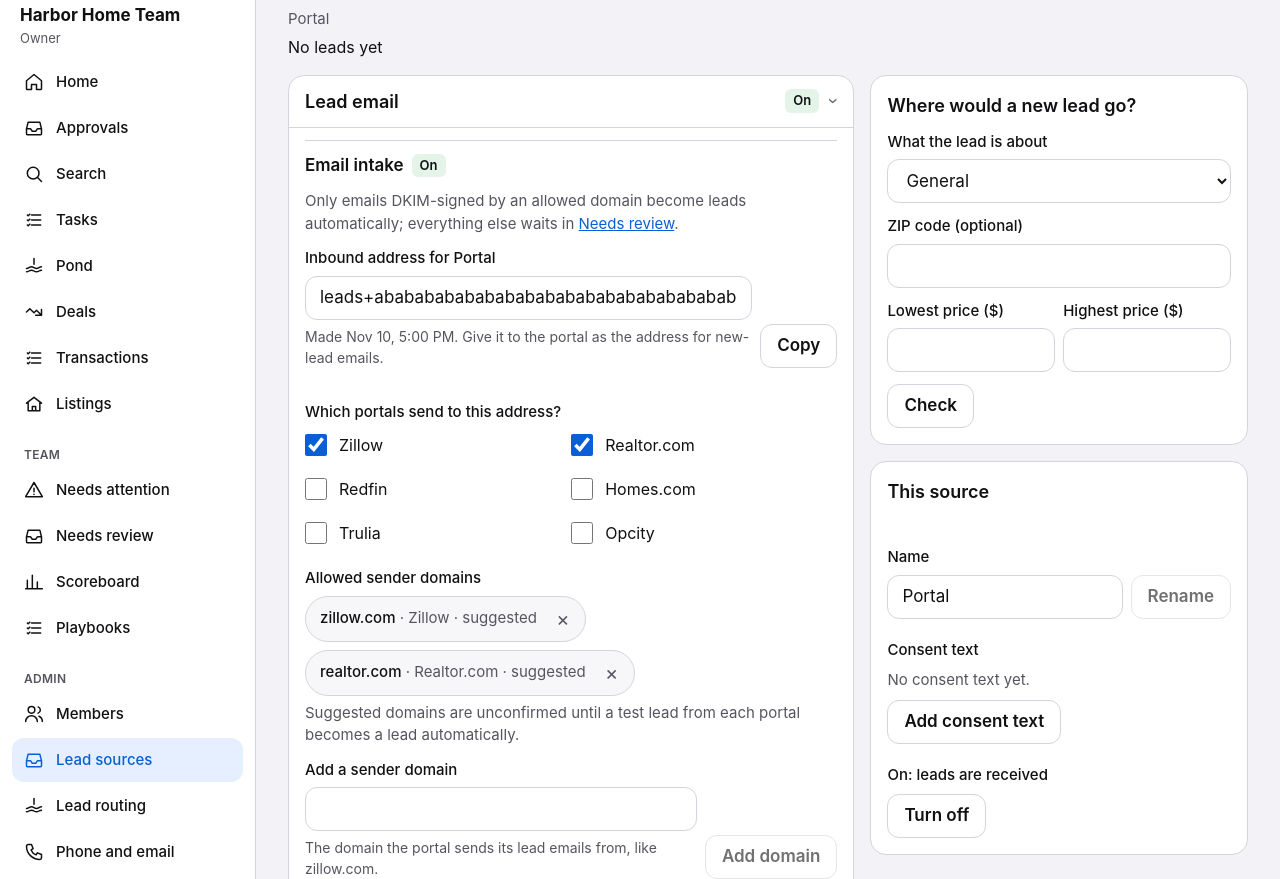
Test: Email intake on a lead source page › sender domains: Save is off until something changes, sends the whole list, and a refused domain is a sentence, never the code
(page scrolled)
Type "co.uk" into the field labelled "Add a sender domain". click: coordinates (501, 809)
box: [305, 787, 697, 831]
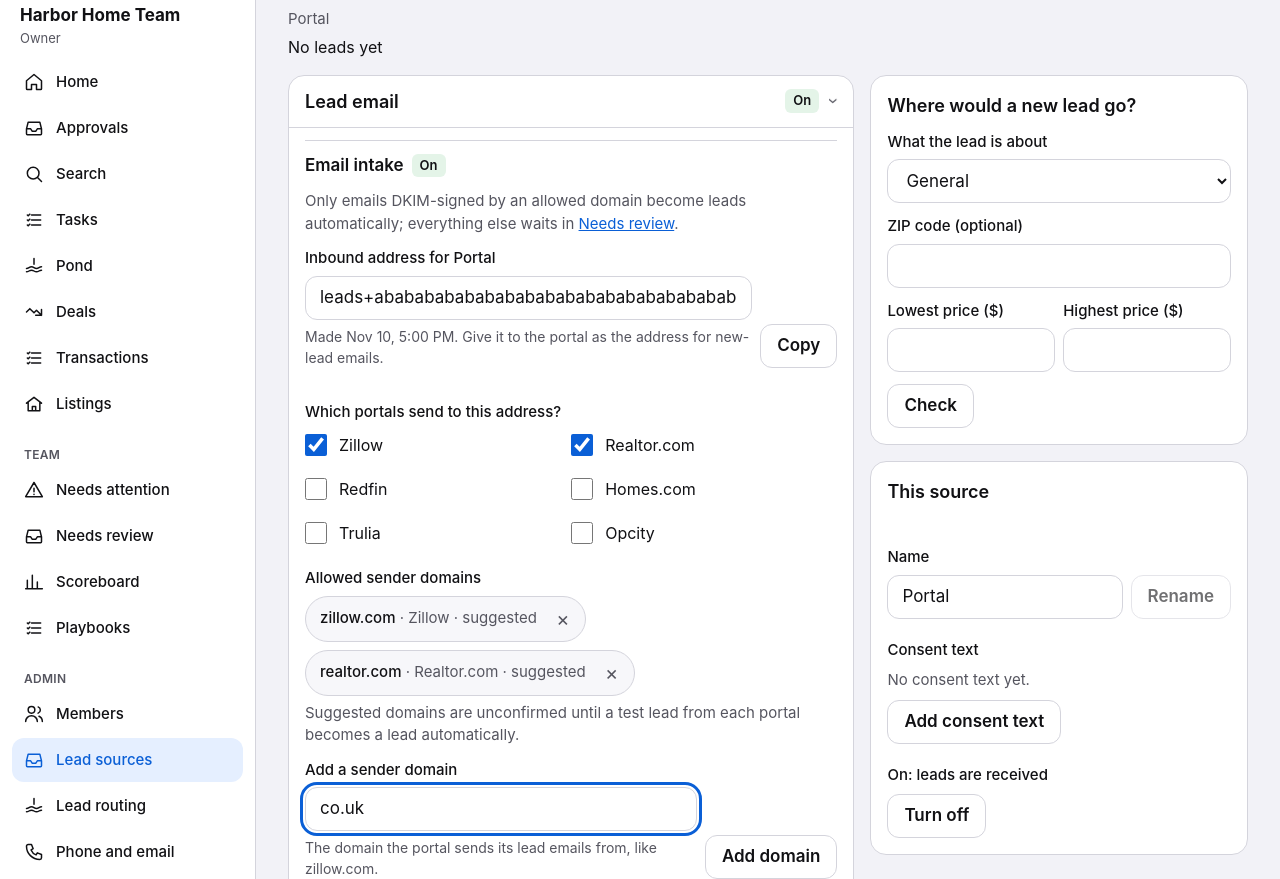
Click the button "Add domain". click: coordinates (771, 857)
box: [705, 835, 837, 878]
(page scrolled)
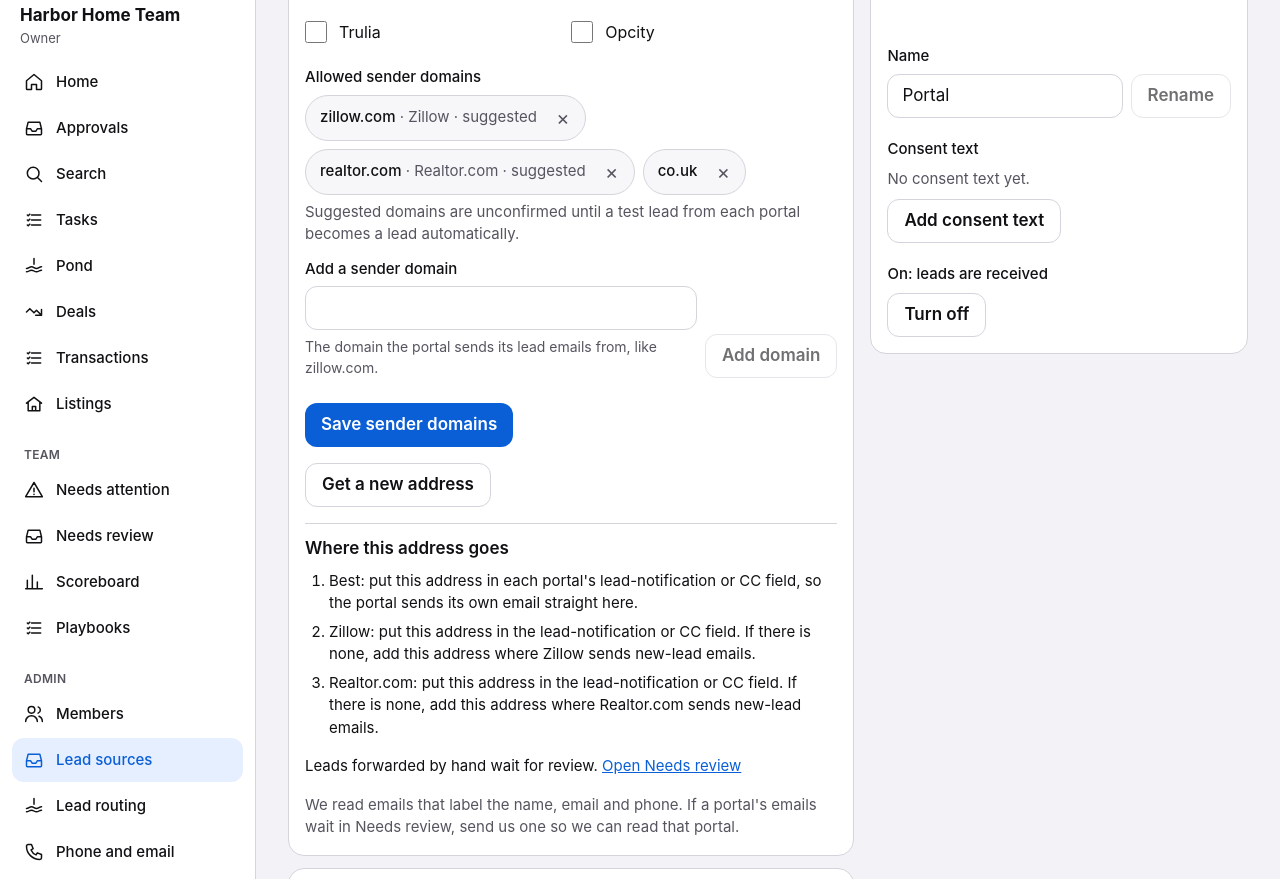
Click the button "Save sender domains". click: coordinates (409, 425)
box: [305, 403, 513, 447]
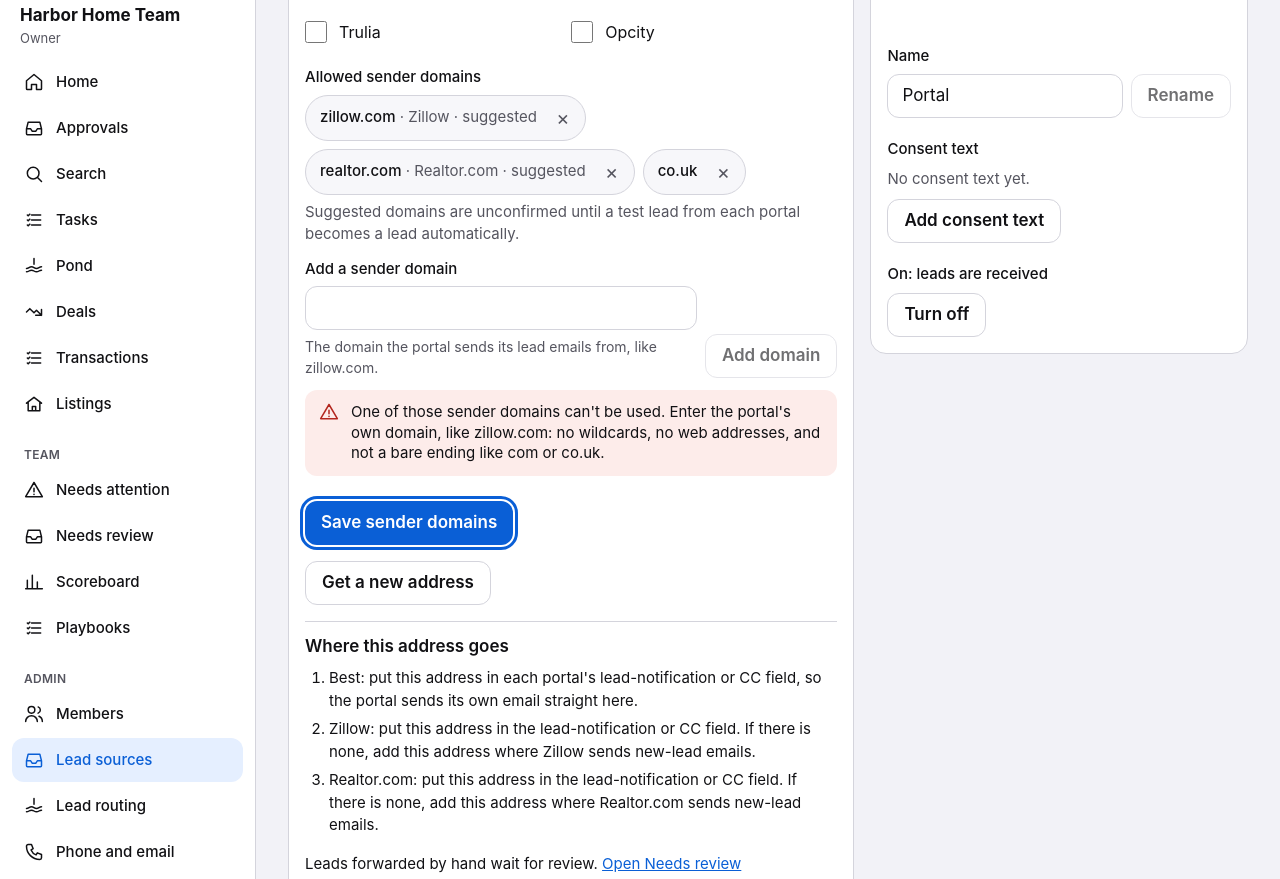
Now the text "One of those sender domains can't be used. Enter the portal's own domain, like zillow.com: no wildcards, no web addresse" is shown, box [351, 402, 820, 462]
Click the button named "Remove co.uk". click: coordinates (723, 172)
box: [701, 150, 745, 194]
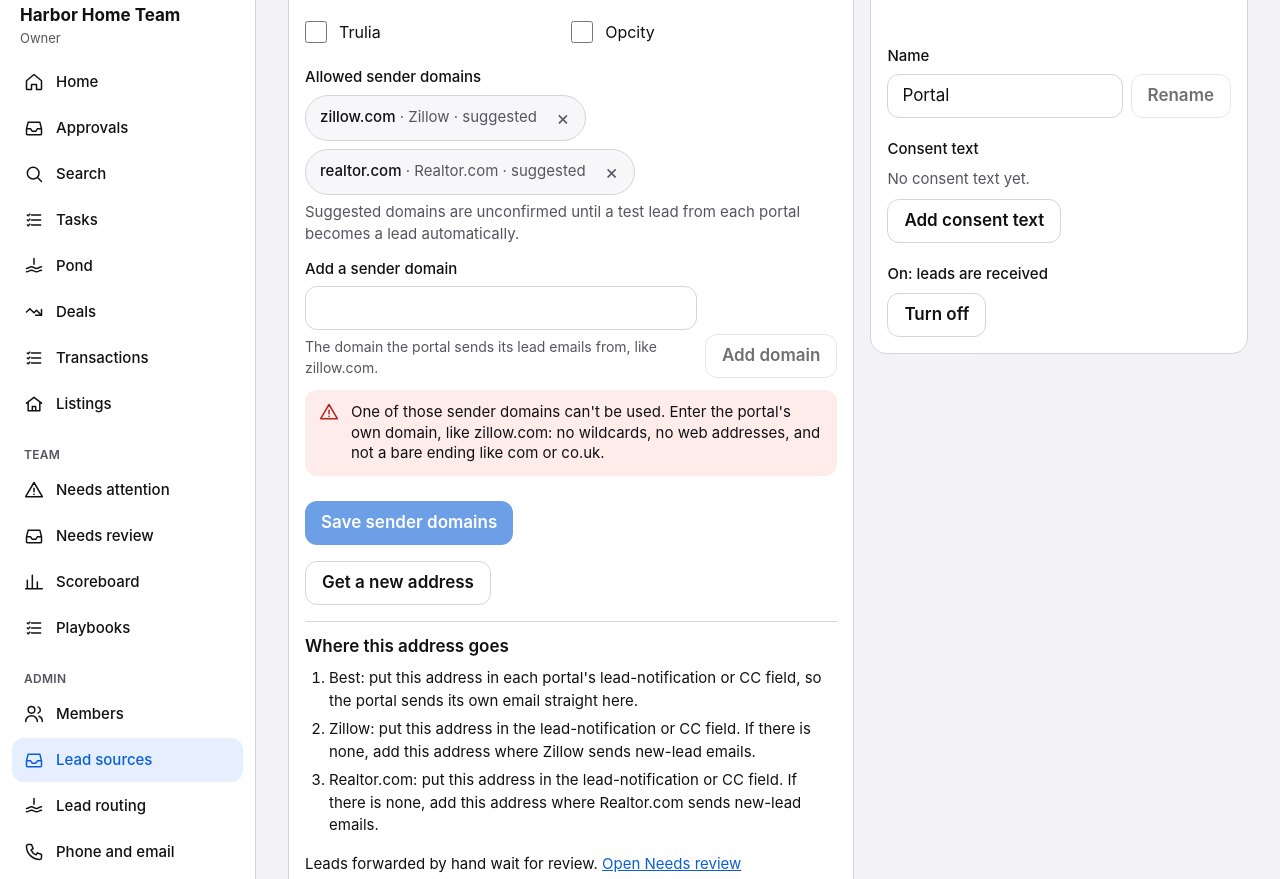
Click the button named "Remove realtor.com". click: coordinates (612, 172)
box: [590, 150, 634, 194]
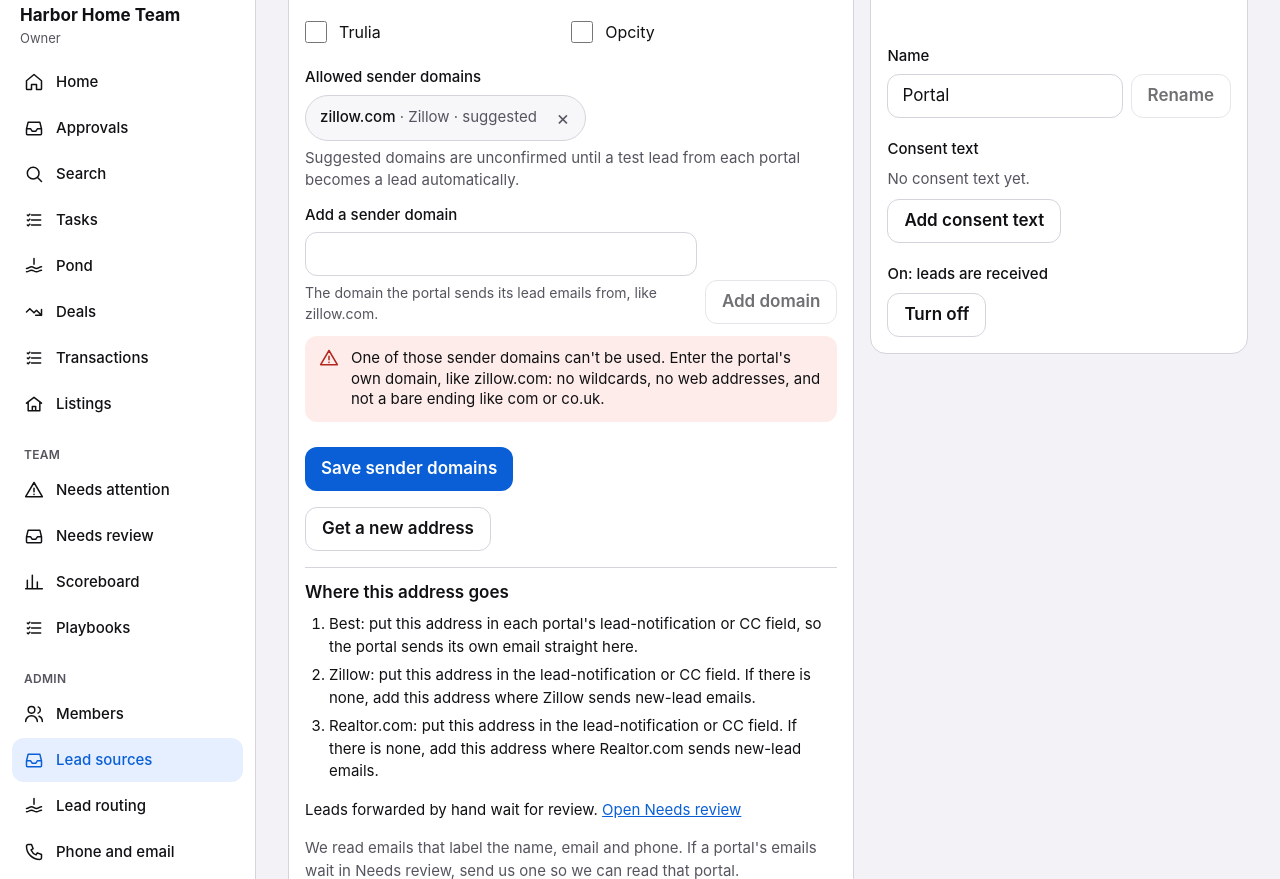
Click the button "Save sender domains". click: coordinates (409, 469)
box: [305, 447, 513, 491]
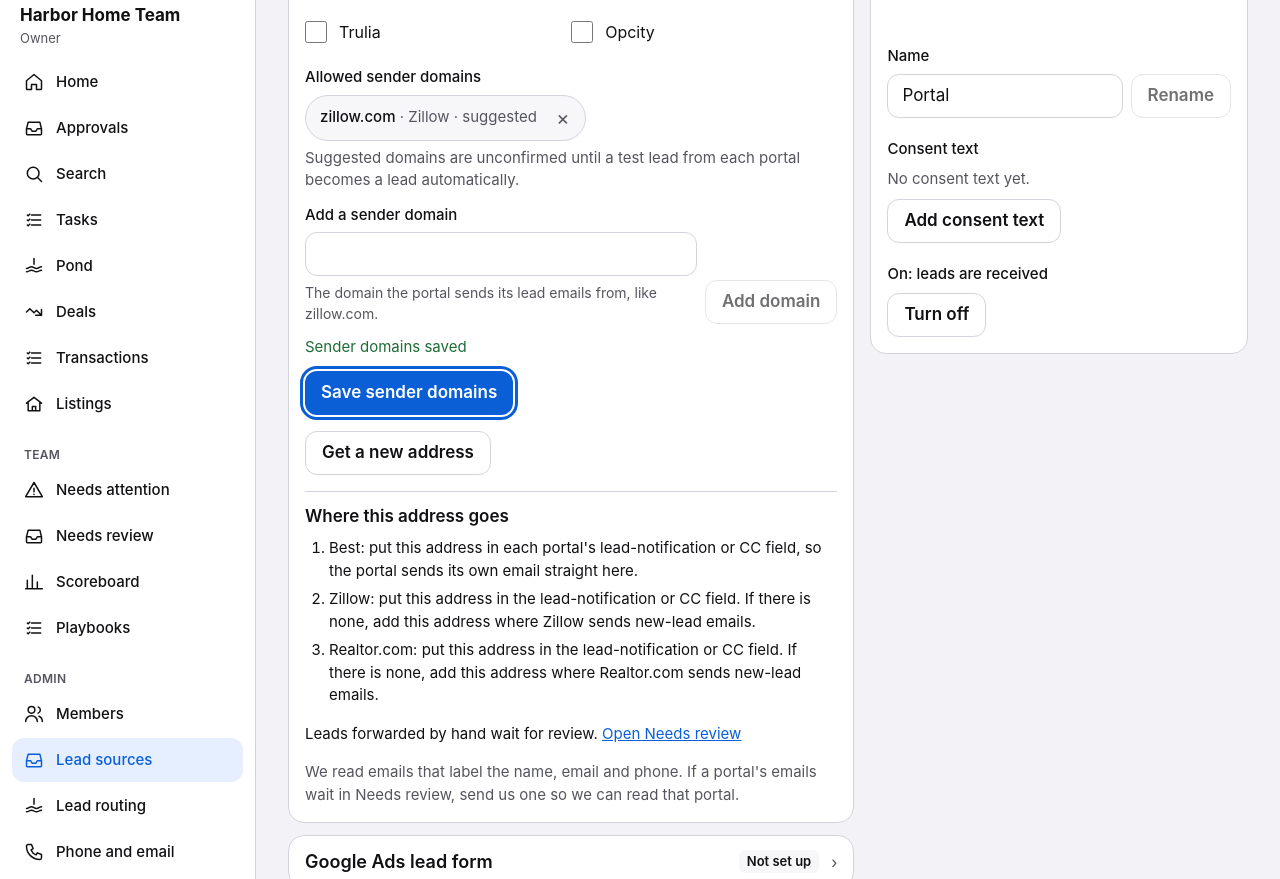
Now the text "Sender domains saved" is shown, box [305, 337, 467, 356]
